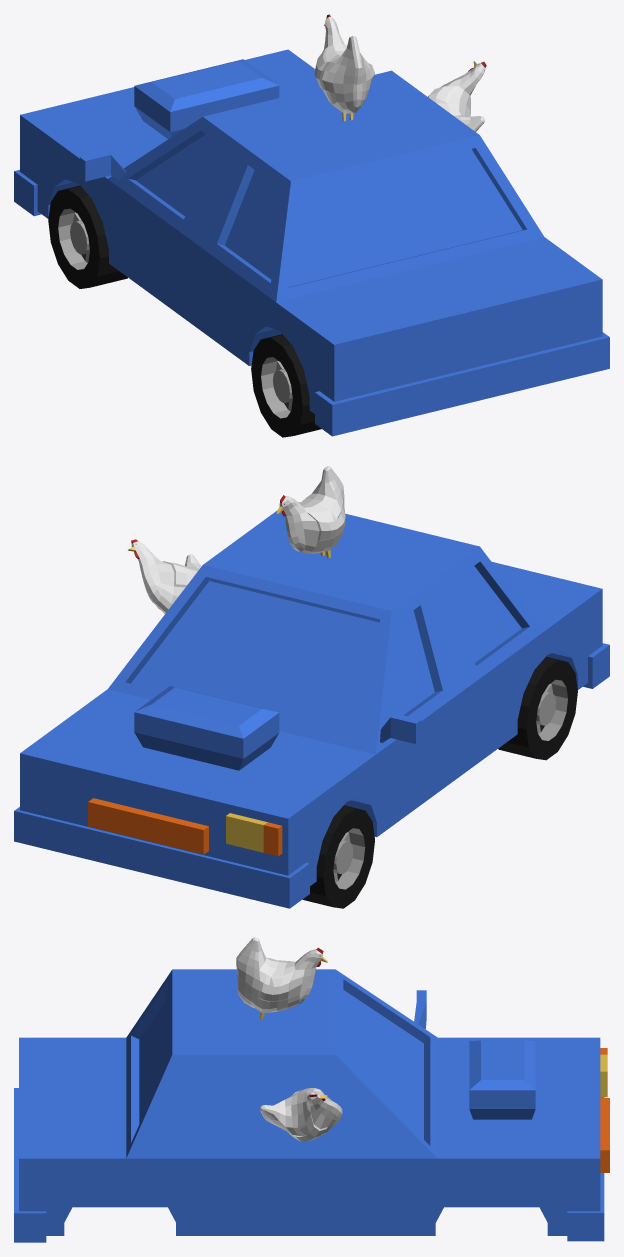
The model's file is carChickens.glb.
3 renders of one model, top to bottom at view 1: azimuth 30°, elevation 25°; view 2: azimuth 150°, elevation 25°; view 3: azimuth 270°, elevation 25°, orthographic. The views are drawn at different scales.
Visible parts, largest first — view 1: car, wheel, wheel.001, Chicken.001, Chicken, mirror; view 2: car, wheel.001, wheel, Chicken.001, Cube, Chicken, car light, mirror; view 3: car, Chicken.001, Chicken, Cube, mirror.
Part boxes in pixels (bbox=[...]): car: bbox=[14, 49, 609, 436]; wheel: bbox=[48, 185, 127, 288]; wheel.001: bbox=[251, 334, 321, 437]; Chicken.001: bbox=[314, 14, 374, 121]; Chicken: bbox=[428, 61, 486, 131]; mirror: bbox=[80, 151, 126, 181]; car: bbox=[14, 502, 609, 908]; wheel.001: bbox=[498, 656, 577, 760]; wheel: bbox=[302, 805, 374, 908]; Chicken.001: bbox=[276, 466, 345, 557]; Cube: bbox=[88, 798, 208, 854]; Chicken: bbox=[128, 539, 201, 613]; car light: bbox=[226, 813, 282, 856]; mirror: bbox=[380, 713, 421, 743]; car: bbox=[14, 969, 604, 1242]; Chicken.001: bbox=[236, 937, 327, 1018]; Chicken: bbox=[259, 1088, 342, 1141]; Cube: bbox=[600, 1098, 609, 1172]; mirror: bbox=[414, 990, 426, 1028].
Bounding box in the file's own units: 3 × 2.55 × 4.87.
